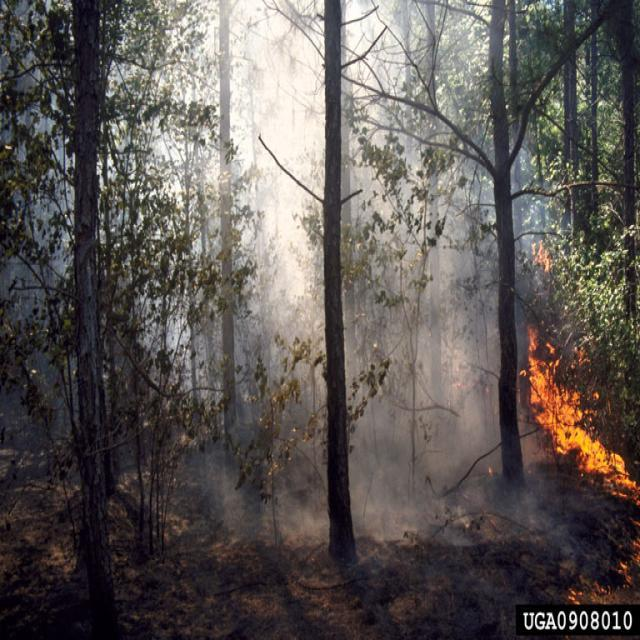Fire: (527, 327, 640, 504)
